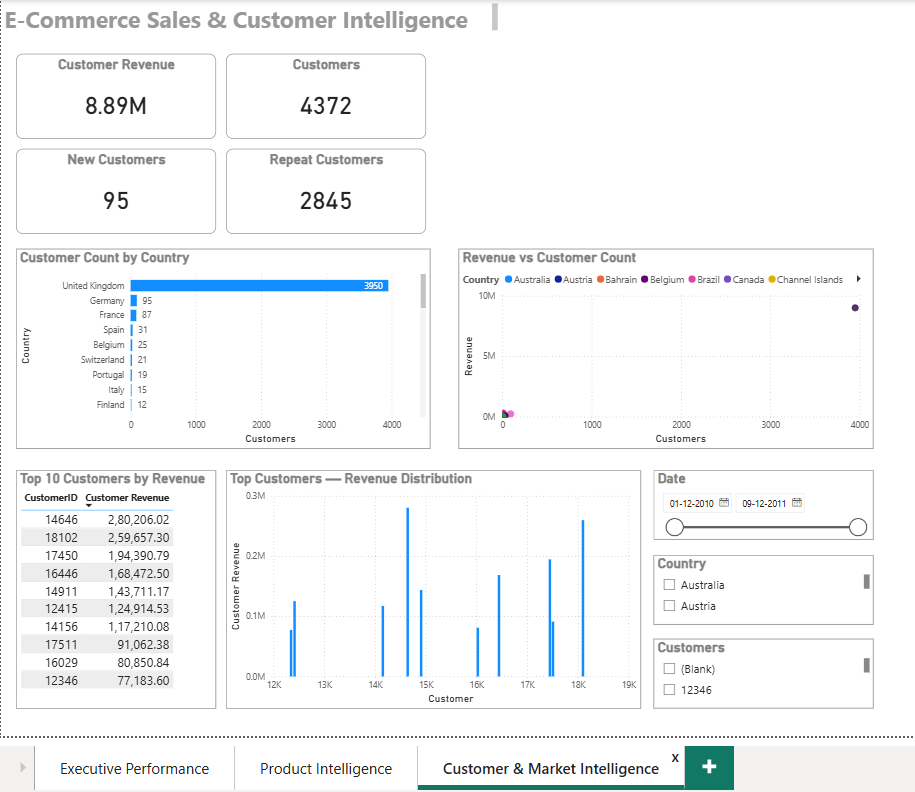

The dashboard page shown, as its layout file describes it:
{"tool":"powerbi","page":{"name":"Customer & Market Intelligence","canvas":[1280,1030],"ordinal":2},"visuals":[{"type":"textbox","box":[10,0,280,280],"z":0},{"type":"textbox","box":[0,0,700,50],"z":1000},{"type":"card","title":"New Customers","fields":{"Values":["FactSales.New Customers"]},"box":[21,208.2,279.9,119],"z":2000},{"type":"card","title":"Customers","fields":{"Values":["FactSales.Total Customers"]},"box":[314.9,75.2,279.9,119],"z":3000},{"type":"card","title":"Customer Revenue","fields":{"Values":["FactSales.Customer Revenue"]},"box":[20.5,74.7,279.9,119],"z":4000},{"type":"card","title":"Repeat Customers","fields":{"Values":["FactSales.Repeat Customers"]},"box":[314.9,208.2,279.9,119],"z":5000},{"type":"tableEx","title":"Top 10 Customers by Revenue","fields":{"Values":["DimCustomer.CustomerID","FactSales.Customer Revenue"]},"box":[21,657.7,279.9,334.1],"z":6000},{"type":"clusteredBarChart","title":"Customer Count by Country","fields":{"Category":["DimCountry.Country"],"Y":["FactSales.Total Customers"]},"box":[21,348.1,580,280],"z":7000},{"type":"scatterChart","title":"Revenue vs Customer Count","fields":{"X":["FactSales.Total Customers"],"Y":["FactSales.Total Valid Revenue"],"Series":["DimCountry.Country"]},"box":[640.3,348.1,580.8,279.9],"z":8000},{"type":"clusteredColumnChart","title":"Top Customers — Revenue Distribution","fields":{"Category":["DimCustomer.CustomerID"],"Y":["FactSales.Customer Revenue"]},"box":[314.9,657.7,580.8,334.1],"z":9000},{"type":"slicer","title":"Date","fields":{"Values":["DimDate.Date"]},"box":[913.2,657.7,307.9,98],"z":10000},{"type":"slicer","title":"Country","fields":{"Values":["DimCountry.Country"]},"box":[913.2,776.7,307.9,98],"z":11000},{"type":"slicer","title":"Customers","fields":{"Values":["DimCustomer.CustomerID"]},"box":[913.2,893.9,307.9,98],"z":12000}]}

Visuals, with their boxes on the page's 1280x1030 design canvas (x1, y1, x2, y2). These are canvas units, not pixel positions in the 915x792 screenshot, which may show the page scaled, cropped or inside an application window:
textbox: (10, 0, 290, 280)
textbox: (0, 0, 700, 50)
"New Customers" card: (21, 208, 301, 327)
"Customers" card: (315, 75, 595, 194)
"Customer Revenue" card: (20, 75, 300, 194)
"Repeat Customers" card: (315, 208, 595, 327)
"Top 10 Customers by Revenue" tableEx: (21, 658, 301, 992)
"Customer Count by Country" clusteredBarChart: (21, 348, 601, 628)
"Revenue vs Customer Count" scatterChart: (640, 348, 1221, 628)
"Top Customers — Revenue Distribution" clusteredColumnChart: (315, 658, 896, 992)
"Date" slicer: (913, 658, 1221, 756)
"Country" slicer: (913, 777, 1221, 875)
"Customers" slicer: (913, 894, 1221, 992)
